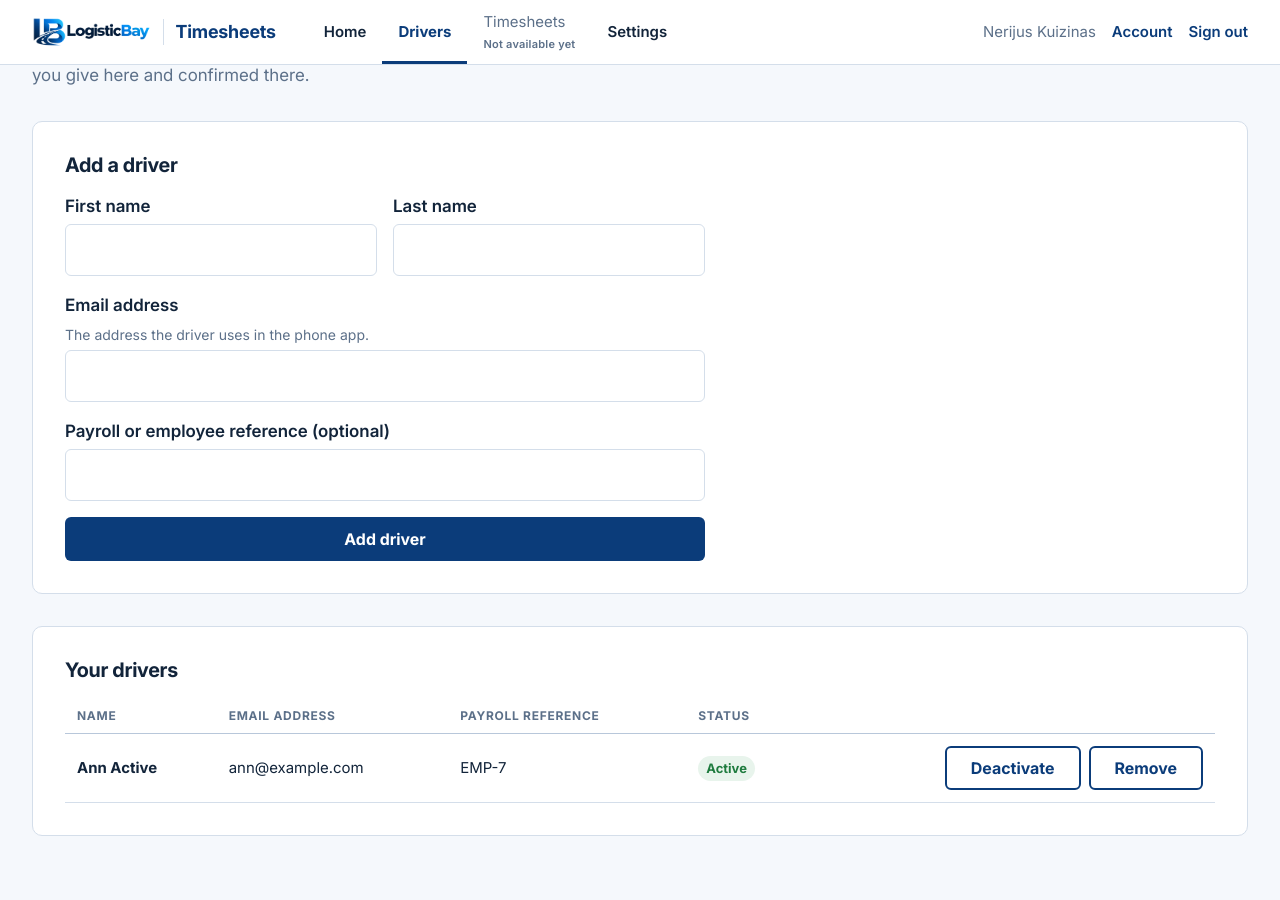
Test: your drivers (D65) › DM2. Deactivate asks first — saying a started shift can still be finished — then deactivates, with the company's token and no body, and says so
(page scrolled)
Expected: the row "Ann Active ann@example.com EMP-7 Active Deactivate Remove" is shown, [65,734,1215,803]
Click the button with aria-label "Deactivate Ann Active".
click(1013, 768)  # box [945,746,1080,790]
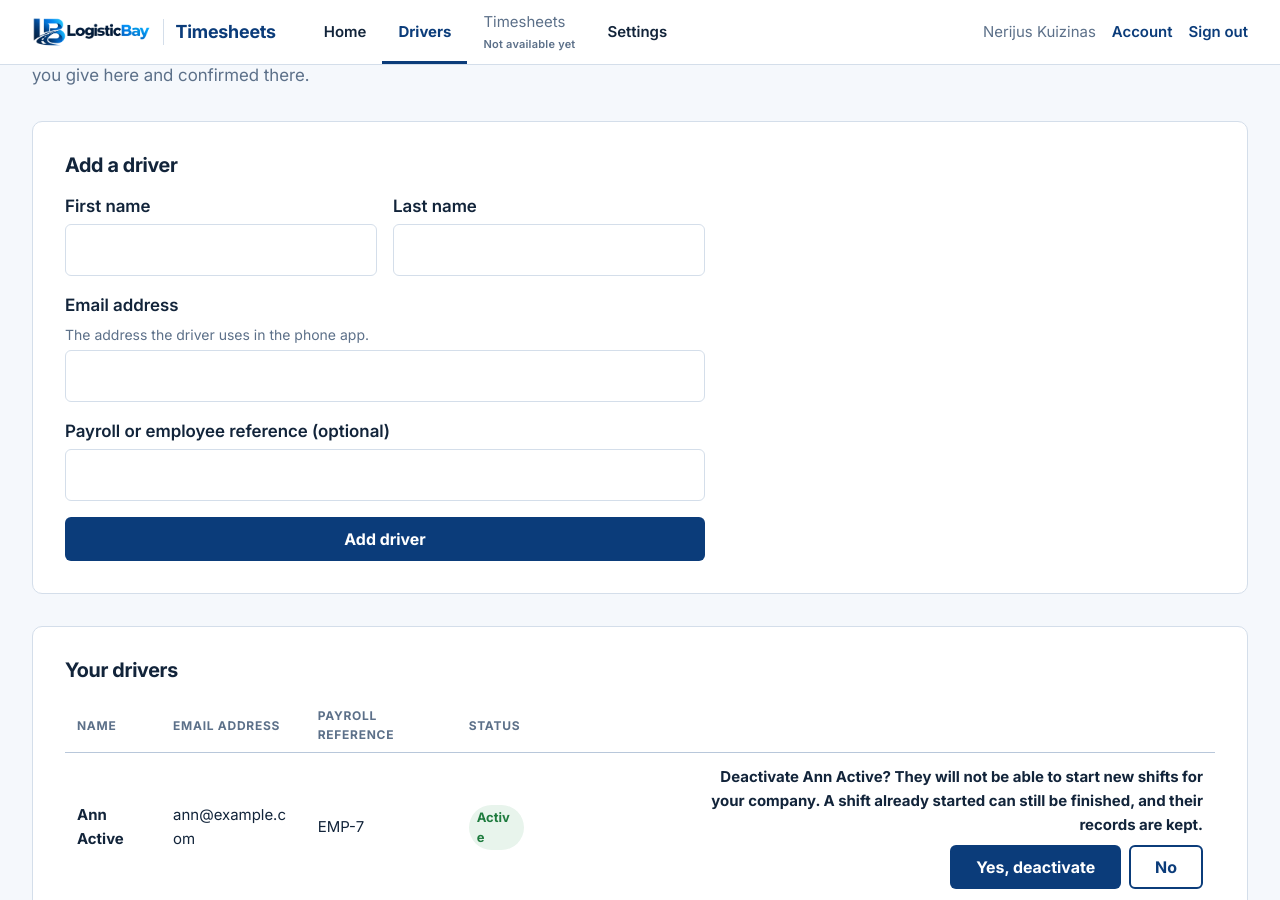
Expected: the row that starts with "Ann Active" shows "already started can still be finished", [711,768,1203,834]
Click the button "Yes, deactivate".
click(1036, 868)  # box [950,846,1121,890]
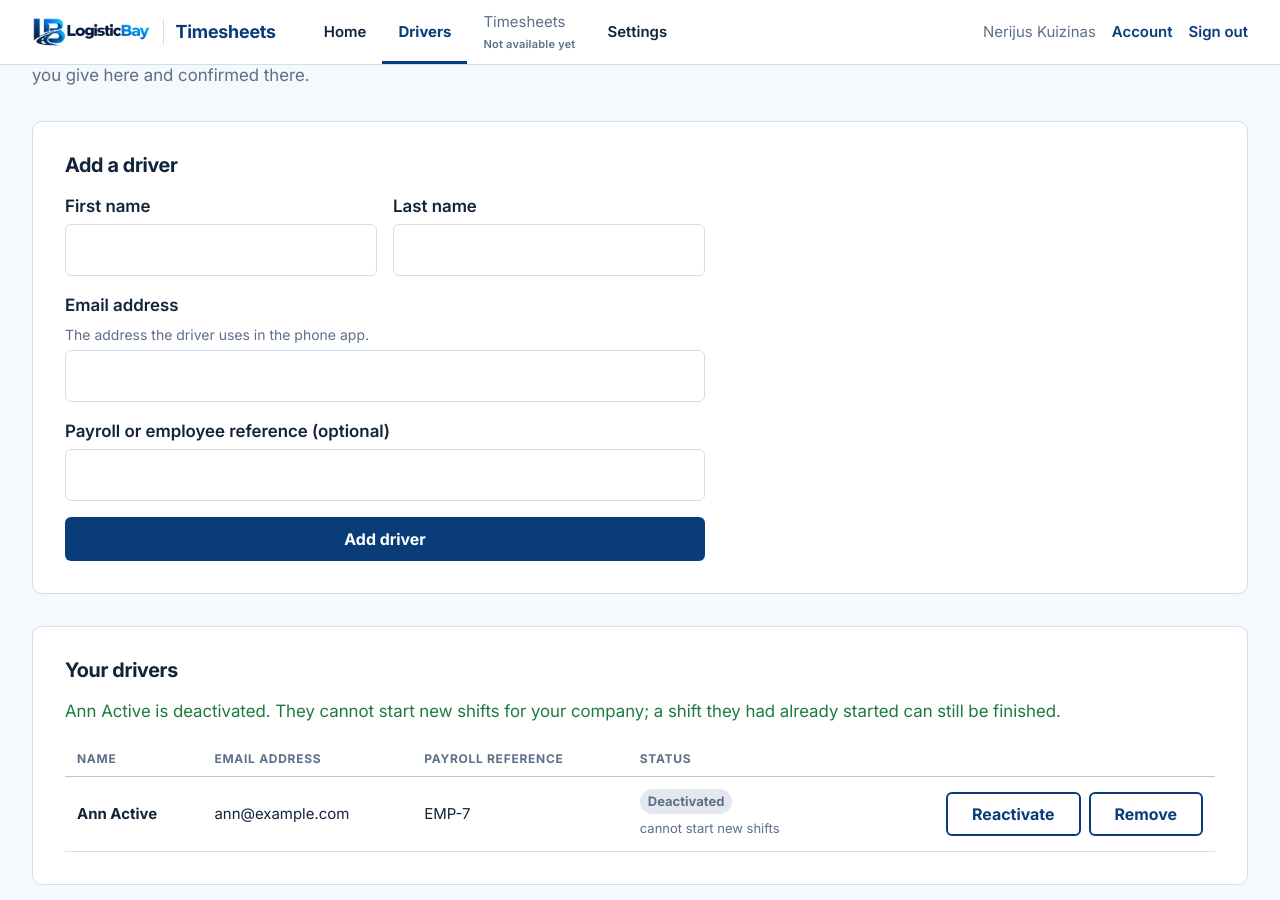
Expected: the row that starts with "Ann Active" shows "Deactivated", [648,794,724,810]
Expected: the message shows "Ann Active is deactivated", [65,701,1061,721]
Expected: the buttons read "Reactivate", "Remove", in this order, [946,792,1081,836]; [1088,792,1203,836]
